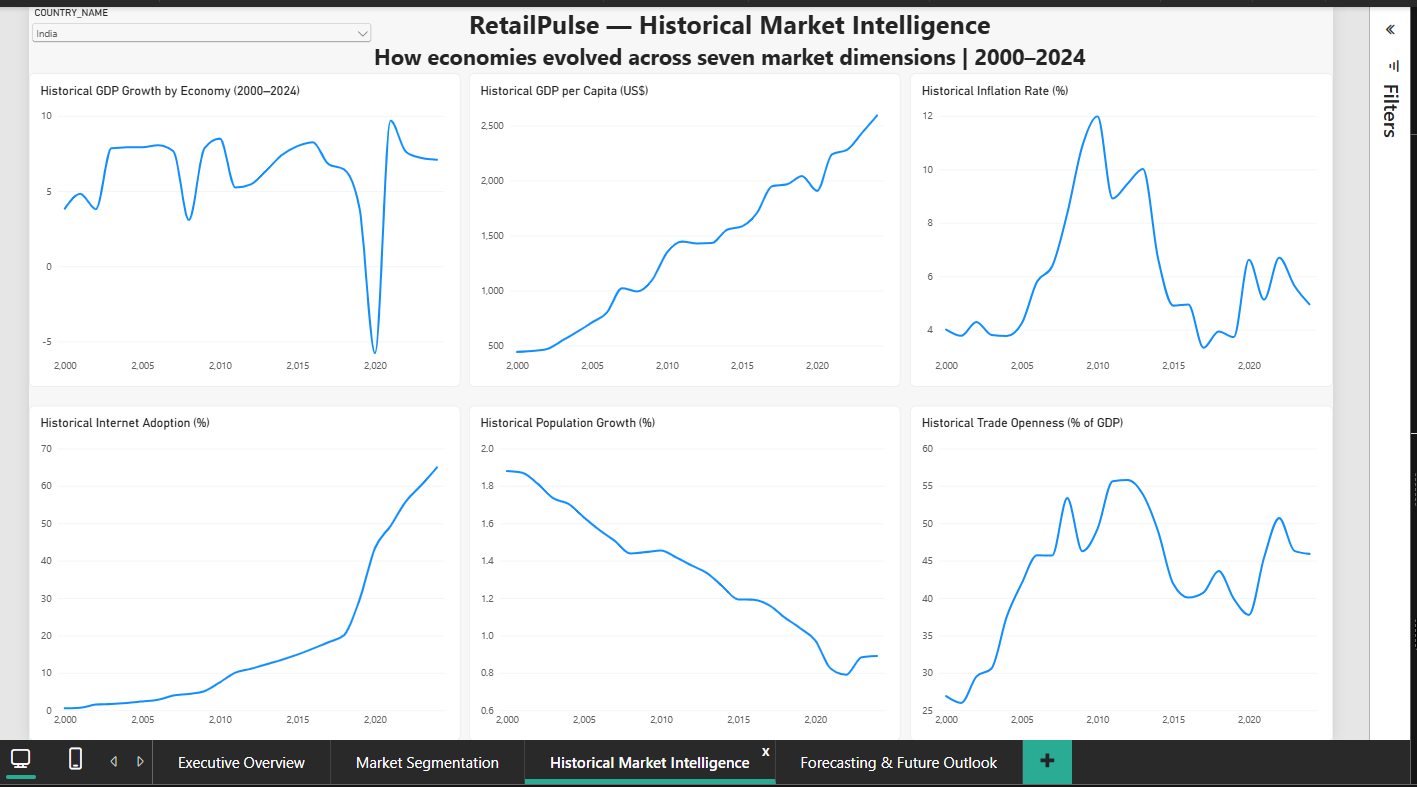

Layout of this report page (visuals, bound fields, positions):
{"tool":"powerbi","page":{"name":"Historical Market Intelligence","canvas":[1920,1080],"ordinal":2},"visuals":[{"type":"textbox","box":[647.8,0,827.4,51.3],"z":0},{"type":"textbox","box":[508.9,51.3,1118.2,47],"z":1000},{"type":"lineChart","title":"Historical GDP Growth by Economy (2000–2024)","fields":{"Category":["COUNTRY_ECONOMIC_TRENDS.YEAR"],"Y":["Avg(COUNTRY_ECONOMIC_TRENDS.GDP_GROWTH_PCT)"]},"box":[0,97.5,635,462],"z":2000},{"type":"slicer","fields":{"Values":["COUNTRY_ECONOMIC_TRENDS.COUNTRY_NAME"]},"box":[0,0,508.9,74.8],"z":3000},{"type":"lineChart","title":"Historical GDP per Capita (US$)","fields":{"Category":["COUNTRY_ECONOMIC_TRENDS.YEAR"],"Y":["Avg(COUNTRY_ECONOMIC_TRENDS.GDP_PER_CAPITA_USD)"]},"box":[647.9,97.5,635,462],"z":4000},{"type":"lineChart","title":"Historical Internet Adoption (%)","fields":{"Category":["COUNTRY_ECONOMIC_TRENDS.YEAR"],"Y":["Avg(COUNTRY_ECONOMIC_TRENDS.INTERNET_USERS_PCT)"]},"box":[0,587.1,635,493.3],"z":5000},{"type":"lineChart","title":"Historical Population Growth (%)","fields":{"Category":["COUNTRY_ECONOMIC_TRENDS.YEAR"],"Y":["Avg(COUNTRY_ECONOMIC_TRENDS.POPULATION_GROWTH_PCT)"]},"box":[647.9,587.1,635,493.3],"z":6000},{"type":"lineChart","title":"Historical Inflation Rate (%)","fields":{"Category":["COUNTRY_ECONOMIC_TRENDS.YEAR"],"Y":["Avg(COUNTRY_ECONOMIC_TRENDS.INFLATION_CPI_PCT)"]},"box":[1297.6,97.5,622.1,462],"z":7000},{"type":"lineChart","title":"Historical Trade Openness (% of GDP)","fields":{"Category":["COUNTRY_ECONOMIC_TRENDS.YEAR"],"Y":["Avg(COUNTRY_ECONOMIC_TRENDS.TRADE_PCT_GDP)"]},"box":[1297.6,587.1,622.1,493.3],"z":7001}]}

Visuals, with their boxes on the page's 1920x1080 design canvas (x1, y1, x2, y2). These are canvas units, not pixel positions in the 1417x787 screenshot, which may show the page scaled, cropped or inside an application window:
textbox: [left=648, top=0, right=1475, bottom=51]
textbox: [left=509, top=51, right=1627, bottom=98]
"Historical GDP Growth by Economy (2000–2024)" lineChart: [left=0, top=98, right=635, bottom=560]
slicer - COUNTRY_ECONOMIC_TRENDS.COUNTRY_NAME: [left=0, top=0, right=509, bottom=75]
"Historical GDP per Capita (US$)" lineChart: [left=648, top=98, right=1283, bottom=560]
"Historical Internet Adoption (%)" lineChart: [left=0, top=587, right=635, bottom=1080]
"Historical Population Growth (%)" lineChart: [left=648, top=587, right=1283, bottom=1080]
"Historical Inflation Rate (%)" lineChart: [left=1298, top=98, right=1920, bottom=560]
"Historical Trade Openness (% of GDP)" lineChart: [left=1298, top=587, right=1920, bottom=1080]
